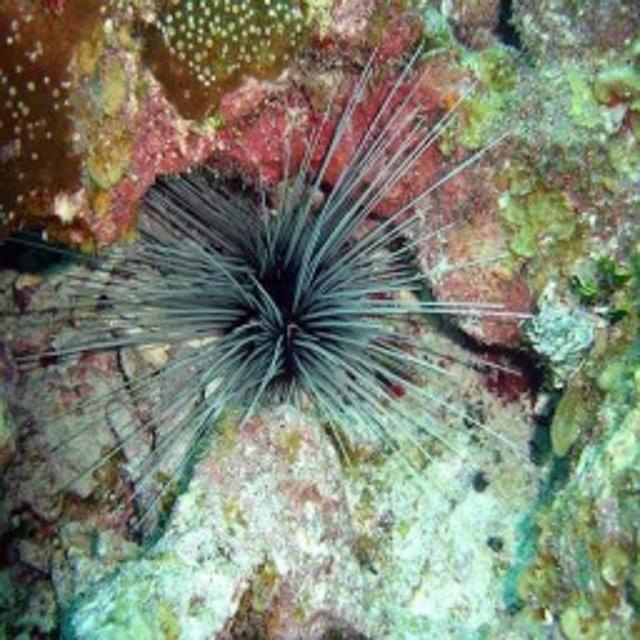Urchin: (26, 39, 528, 482)
